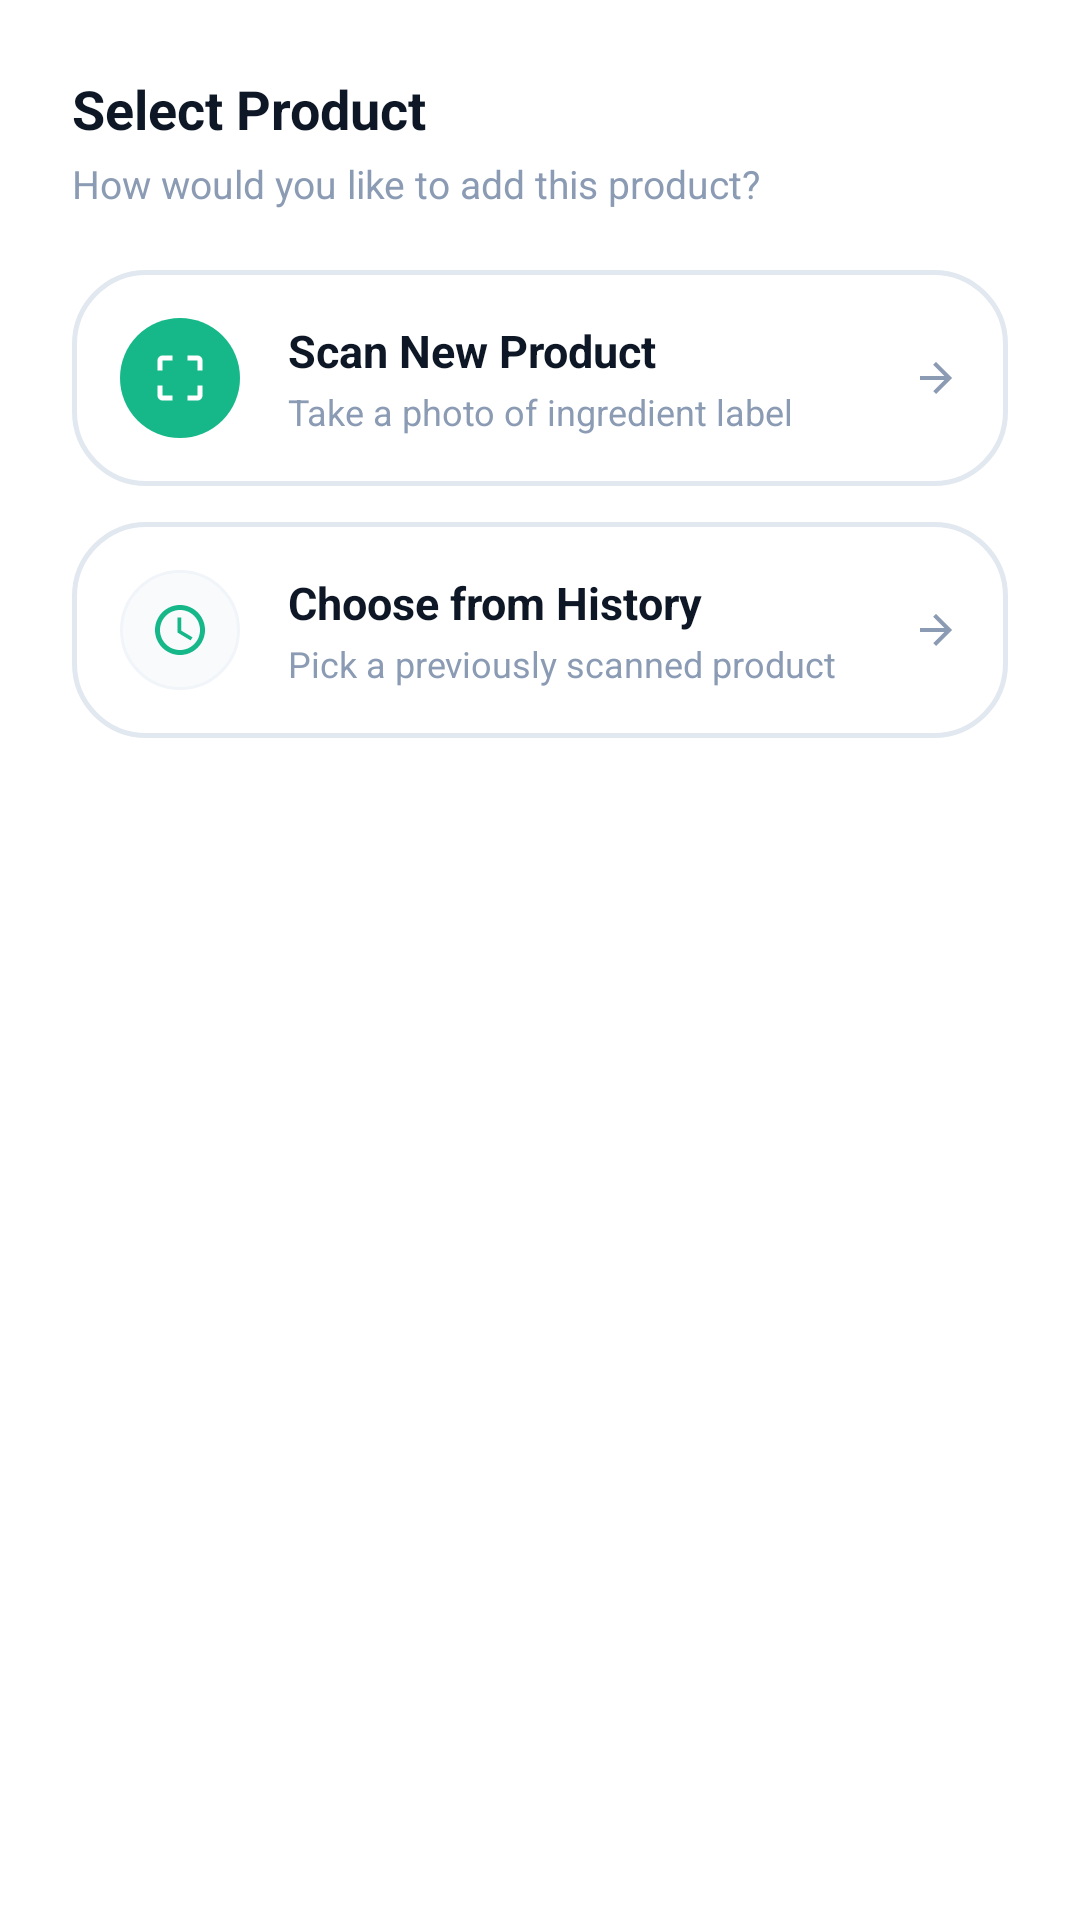

Named icons in this screenshot (1080*1920) and their centers, (x,y):
arrow forward: (936,378), (936,630)
clock: (180,630)
scan edges: (180,378)
